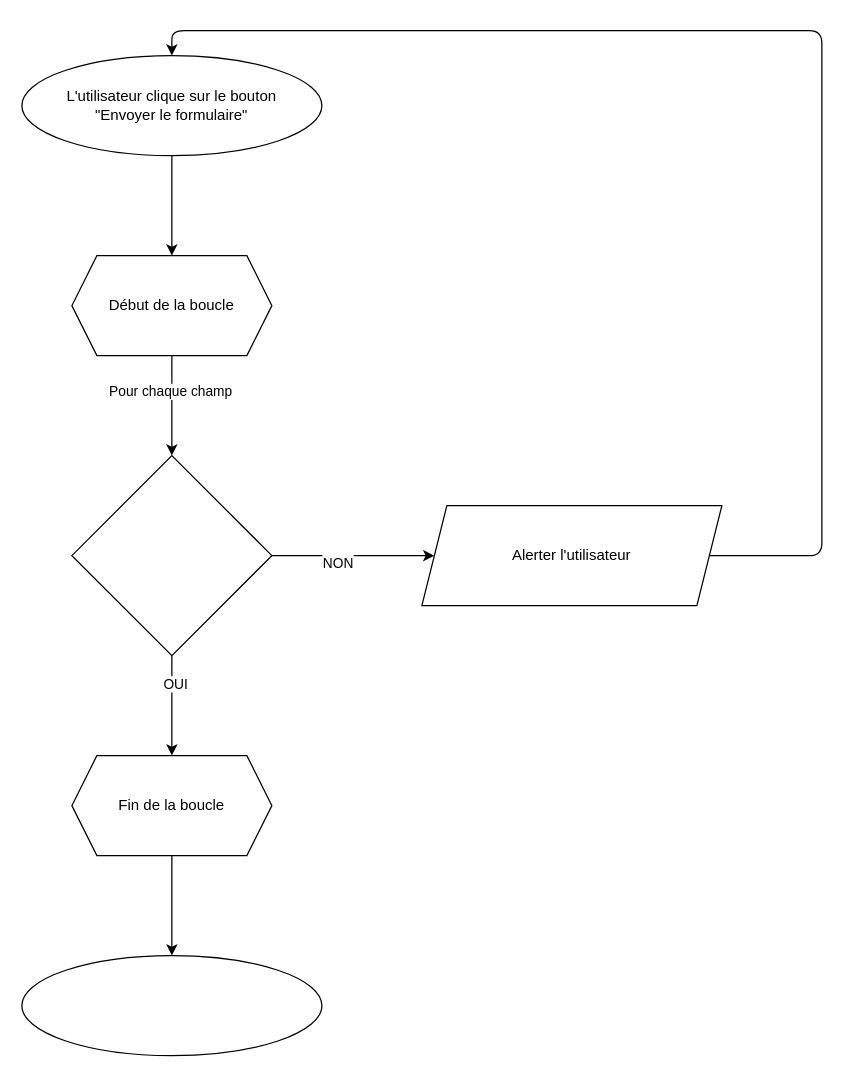
The diagram is 854 pixels wide and 1078 high, and some of its shapes have lost their labels. The box of each missing label's shape, as (x1, y1, x2, y2) in pixels:
Envoi du formulaire: (21, 954, 322, 1056)
Est-ce que le champ a été rempli ?: (71, 454, 272, 656)
